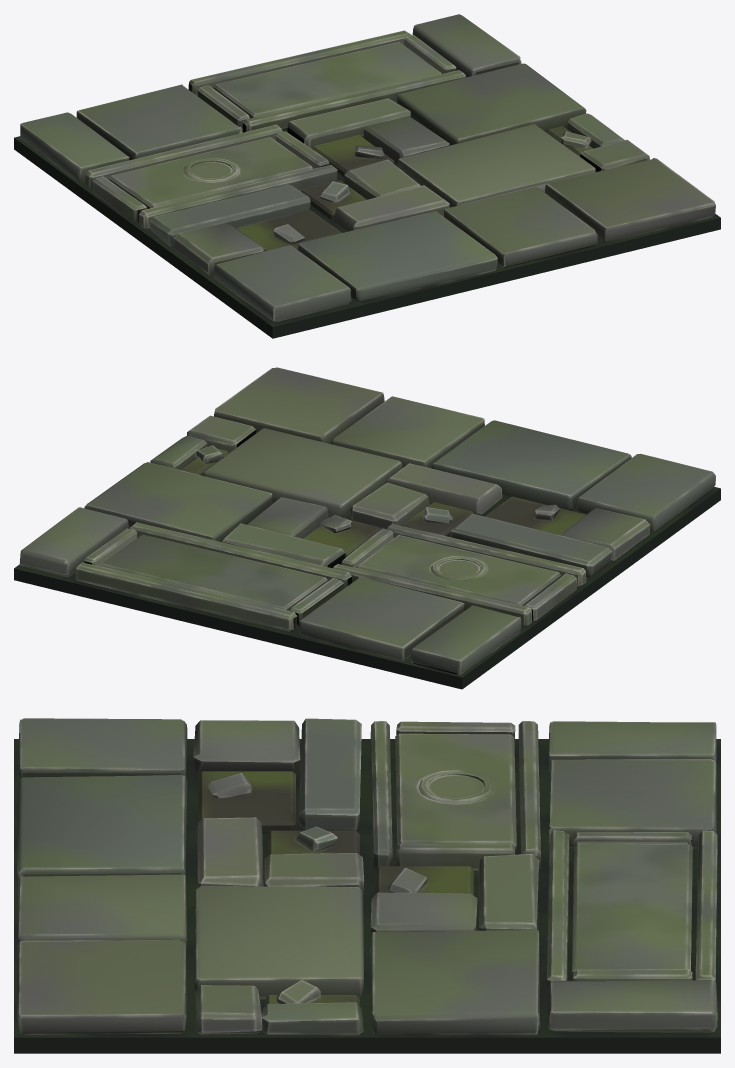
File: crypt_floor_tile_worn.glb
3 views of the same model, one above another, from view 1: azimuth 30°, elevation 25°; view 2: azimuth 150°, elevation 25°; view 3: azimuth 270°, elevation 25° (orthographic). The views are drawn at different scales.
Visible parts, largest first — view 1: crypt_floor_tile_worn; view 2: crypt_floor_tile_worn; view 3: crypt_floor_tile_worn.
Boxes of the visible parts, <box> form: crypt_floor_tile_worn: <box>14,14,720,338</box>; crypt_floor_tile_worn: <box>14,367,720,689</box>; crypt_floor_tile_worn: <box>14,718,720,1053</box>.
Size of the model in its own units: 4 by 0.2557 by 4.
Materials: 1 (1 with a texture image).
